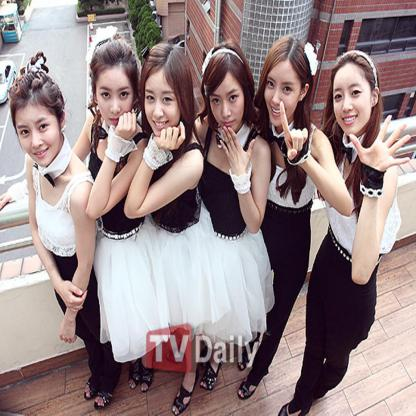face: (16, 107, 62, 166), (334, 67, 373, 136), (96, 63, 134, 129), (144, 70, 181, 137), (208, 74, 244, 136), (267, 62, 300, 127)
